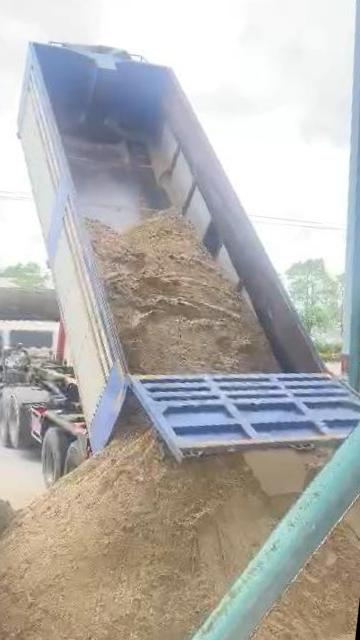sand: (0, 397, 291, 640), (88, 213, 278, 372), (167, 527, 360, 640), (243, 447, 331, 499), (0, 470, 13, 590), (349, 485, 360, 540)
